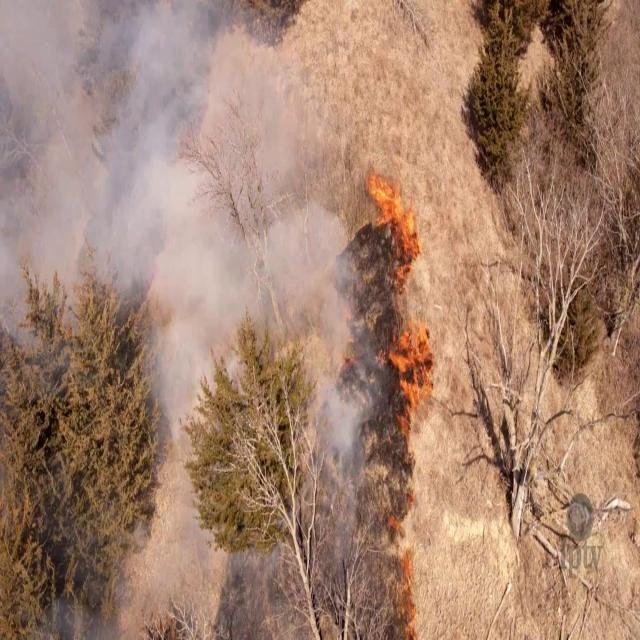Fire: (366, 168, 422, 295), (386, 322, 434, 438), (400, 544, 418, 640)
Smoke: (0, 1, 384, 638)
